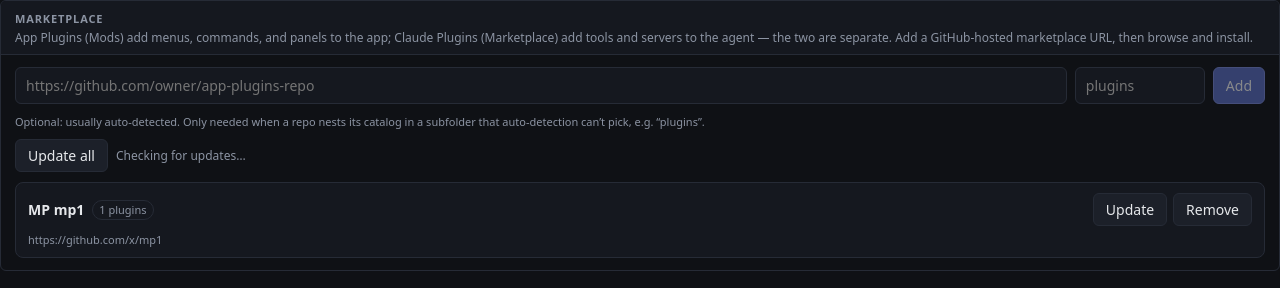
AppPluginMarketplaceSection check/pull races › drops a removed marketplace's check state so a late response cannot revive it
Check: the button with class "marketplace-update-btn" is shown, box top-left (1093, 193), bottom-right (1167, 226)
Remove while the check is still in flight.
Step 1. Click the button "Remove" → (1213, 210), box top-left (1173, 193), bottom-right (1252, 226)
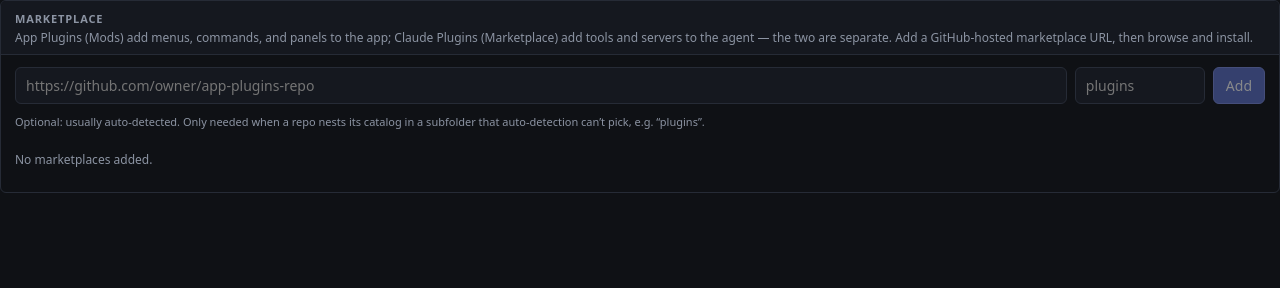
Check: the text "No marketplaces added." is shown, box top-left (15, 151), bottom-right (152, 168)
